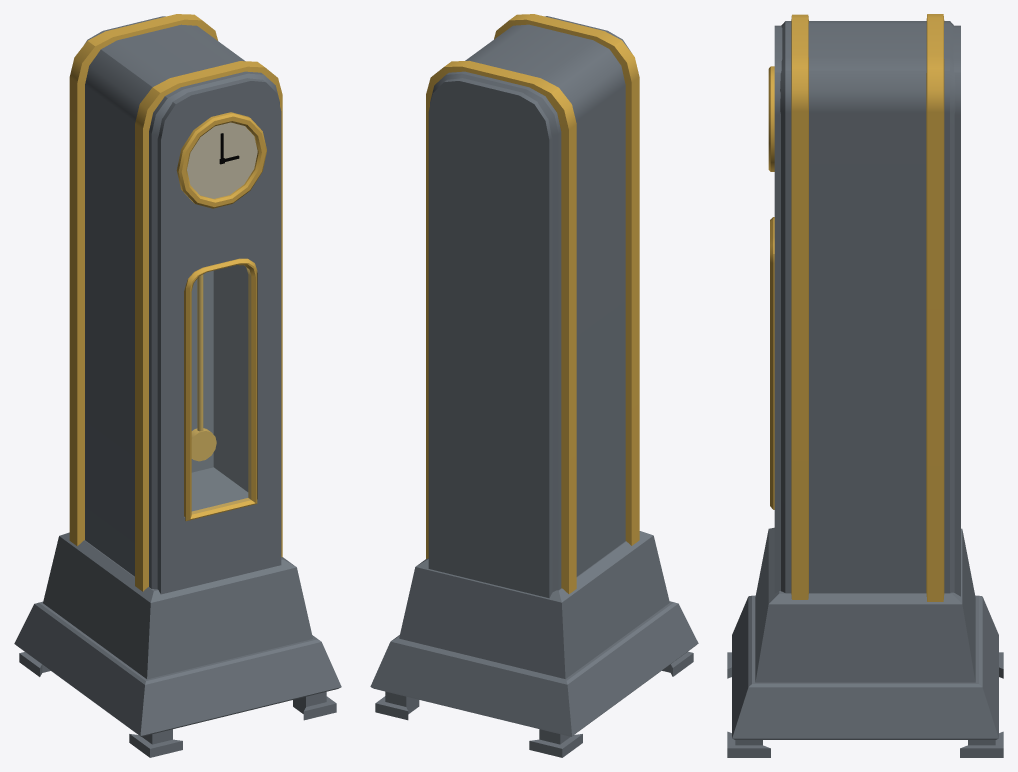
File: Reloj_Grande.fbx
3 renders of one model, left to right at view 1: azimuth 30°, elevation 25°; view 2: azimuth 150°, elevation 25°; view 3: azimuth 270°, elevation 25°, orthographic. The views are drawn at different scales.
Visible parts, largest first — view 1: Reloj_Grande; view 2: Reloj_Grande; view 3: Reloj_Grande.
Boxes of the visible parts, x1,y1,x2,y2 form: Reloj_Grande: (14, 14, 341, 757); Reloj_Grande: (370, 14, 698, 757); Reloj_Grande: (727, 14, 1003, 757).
Bounding box in the file's own units: 0.835 × 2.53 × 0.9396.
